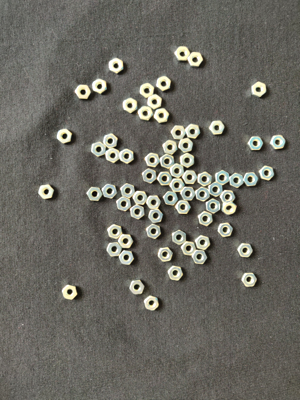nut: (251, 82, 267, 98), (154, 108, 170, 124), (175, 47, 191, 62), (188, 52, 204, 67), (157, 76, 172, 92), (148, 94, 163, 110), (185, 124, 201, 139), (170, 163, 185, 179), (259, 166, 275, 181), (102, 184, 118, 199), (199, 211, 214, 227), (218, 223, 234, 238), (238, 243, 254, 258), (118, 234, 134, 249), (107, 242, 123, 257), (119, 250, 135, 265), (62, 285, 78, 300), (270, 135, 287, 149), (241, 273, 258, 287), (57, 129, 72, 144), (210, 120, 225, 135), (91, 142, 106, 157), (120, 149, 135, 164), (163, 140, 178, 155), (160, 154, 175, 169), (180, 153, 195, 168), (244, 172, 259, 187), (196, 187, 211, 202), (206, 199, 221, 214), (130, 205, 145, 220), (149, 209, 164, 224), (147, 224, 162, 239), (108, 224, 123, 239), (158, 247, 173, 262), (168, 266, 183, 281), (130, 280, 145, 295), (110, 58, 124, 74), (140, 83, 154, 99), (216, 170, 230, 186), (87, 187, 103, 201), (163, 192, 179, 206), (195, 236, 211, 250), (181, 242, 197, 256), (192, 250, 208, 264), (93, 79, 107, 94), (76, 85, 91, 99), (124, 98, 138, 113), (139, 106, 153, 121), (171, 126, 186, 140), (104, 134, 118, 149), (106, 148, 120, 163), (179, 138, 193, 153), (146, 153, 160, 168), (230, 173, 244, 188), (198, 172, 212, 187), (183, 170, 198, 184), (143, 169, 158, 183), (181, 187, 196, 201), (209, 182, 223, 197), (222, 201, 237, 215), (39, 185, 54, 199), (121, 184, 135, 199), (133, 191, 148, 205), (117, 197, 131, 212), (147, 196, 162, 210), (173, 230, 187, 245), (145, 296, 159, 311), (248, 137, 264, 150), (170, 179, 185, 192), (220, 190, 235, 203), (176, 201, 191, 214), (158, 172, 172, 185)
